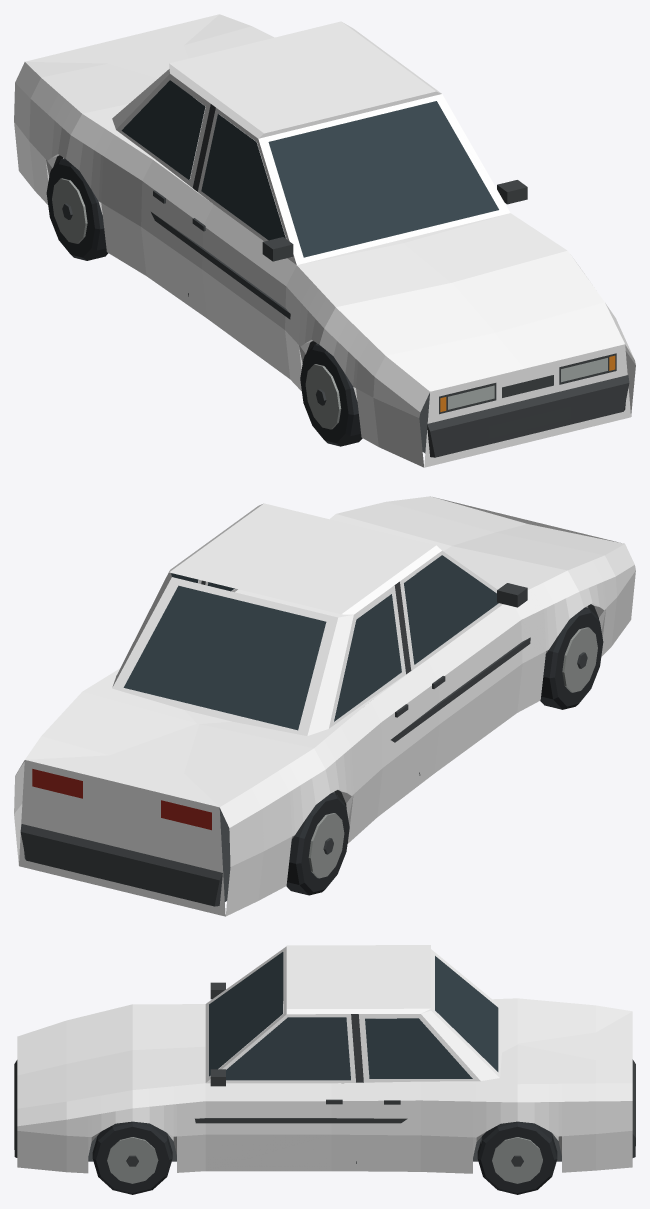
The model's file is kanaya_yamakaze.glb.
The picture shows the model from 3 angles, top to bottom: view 1: azimuth 30°, elevation 25°; view 2: azimuth 150°, elevation 25°; view 3: azimuth 270°, elevation 25°; orthographic projection. The views are drawn at different scales.
Visible parts, largest first — view 1: kanaya_yamakaze; view 2: kanaya_yamakaze; view 3: kanaya_yamakaze.
Boxes of the visible parts, x1,y1,x2,y2 form: kanaya_yamakaze: (14,14,635,467); kanaya_yamakaze: (14,496,635,916); kanaya_yamakaze: (14,945,635,1194).
Bounding box in the file's own units: 1.8 × 1.48 × 4.83.
8 materials, 1 textured.
